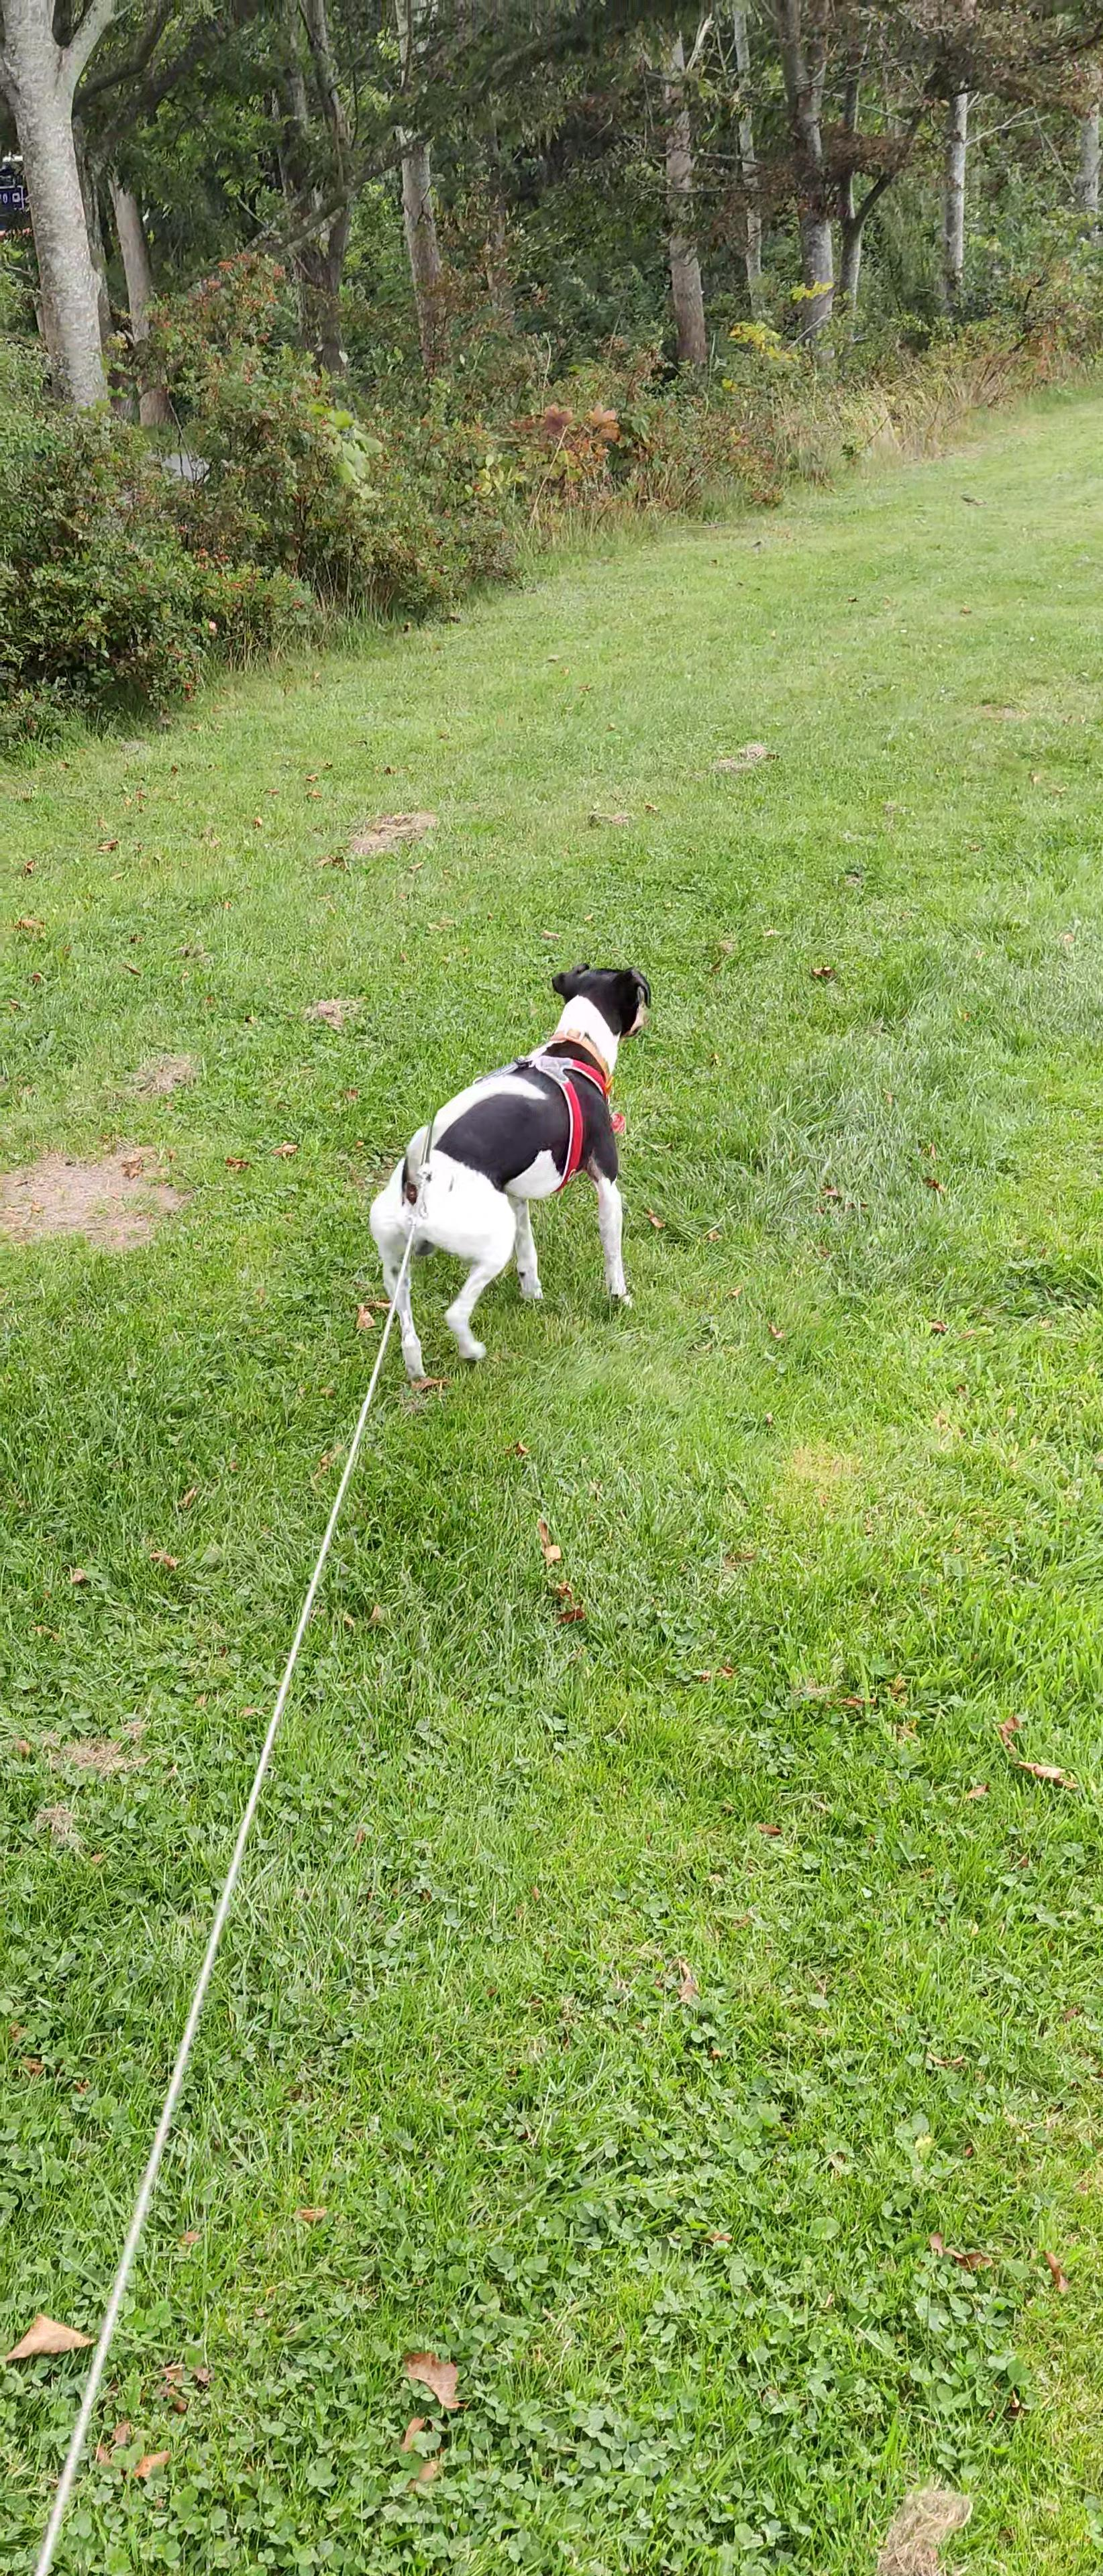Dog: (352, 943, 669, 1398)
